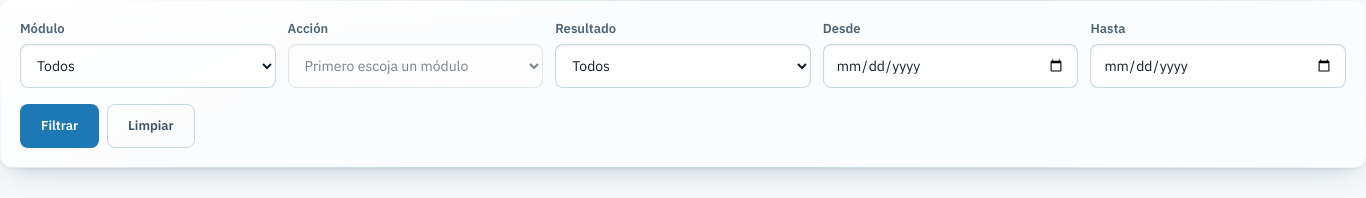
Test: el desplegable de acción depende del módulo › al elegir un módulo ofrece solo las acciones de ese módulo
The image size is (1366, 198).
Select "Ventas" in the dropdown labelled "Módulo" at [148, 66], box x1=20 y1=44 x2=276 y2=88
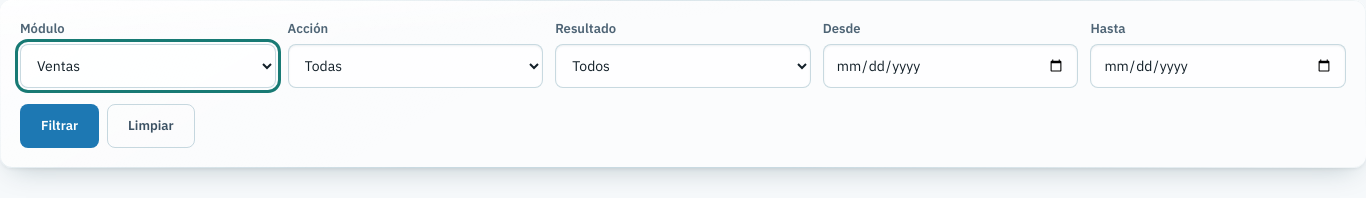
expect the dropdown labelled "Acción" is enabled: met, box x1=288 y1=44 x2=543 y2=88
